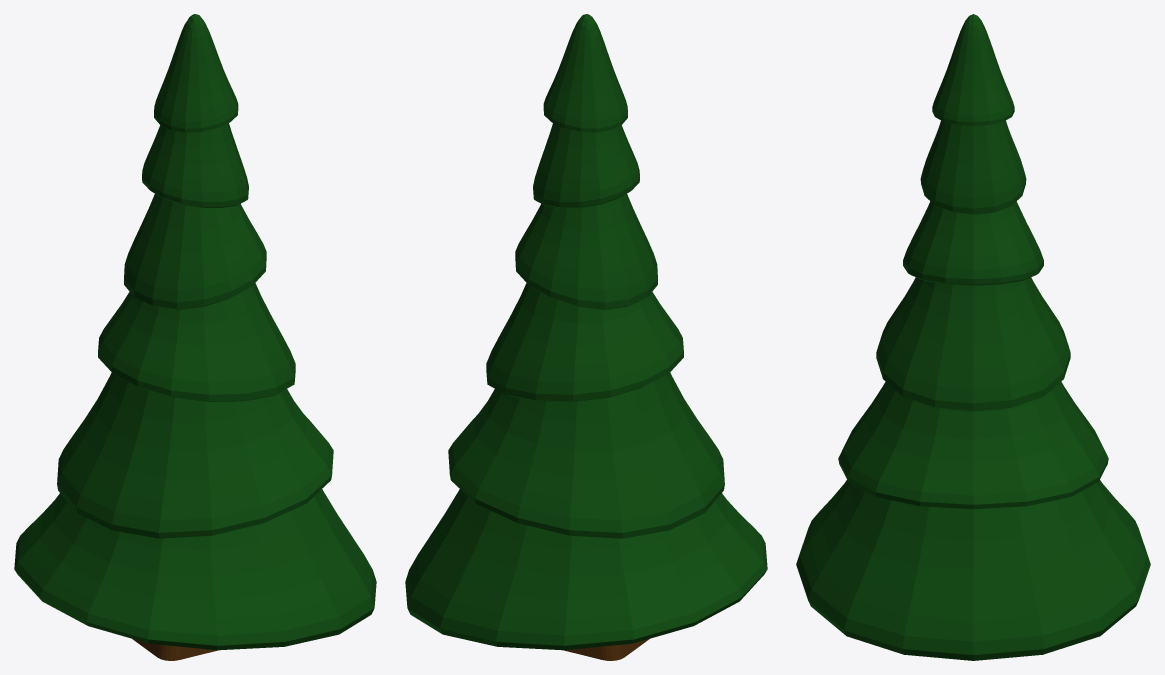
File: Pinheiro.fbx
The picture shows the model from 3 angles, left to right: view 1: azimuth 30°, elevation 25°; view 2: azimuth 150°, elevation 25°; view 3: azimuth 270°, elevation 25°; orthographic projection. The views are drawn at different scales.
Parts seen in each view (by area): view 1: Pinheiro; view 2: Pinheiro; view 3: Pinheiro.
Part boxes in pixels (x1,y1,x2,y2): Pinheiro: (14, 14, 376, 660); Pinheiro: (405, 14, 767, 660); Pinheiro: (796, 14, 1150, 660).
Size of the model in its own units: 560 by 563 by 1032.
